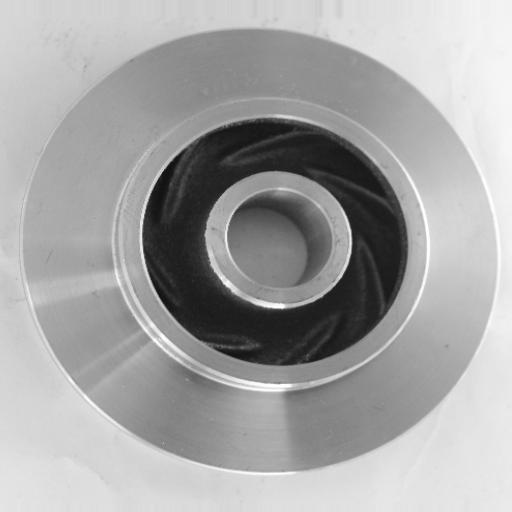polished_casting: (23, 29, 501, 475)
